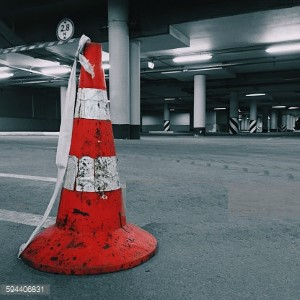traffic cone: (19, 42, 158, 276)
